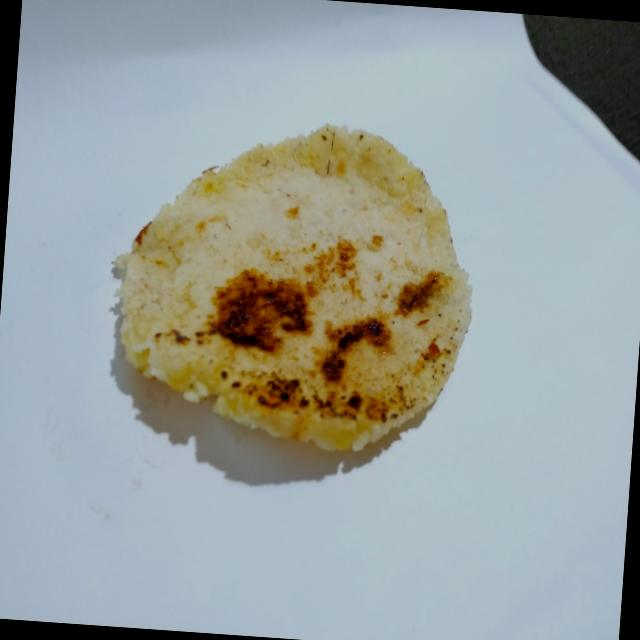Mbeju: (97, 97, 491, 480)
